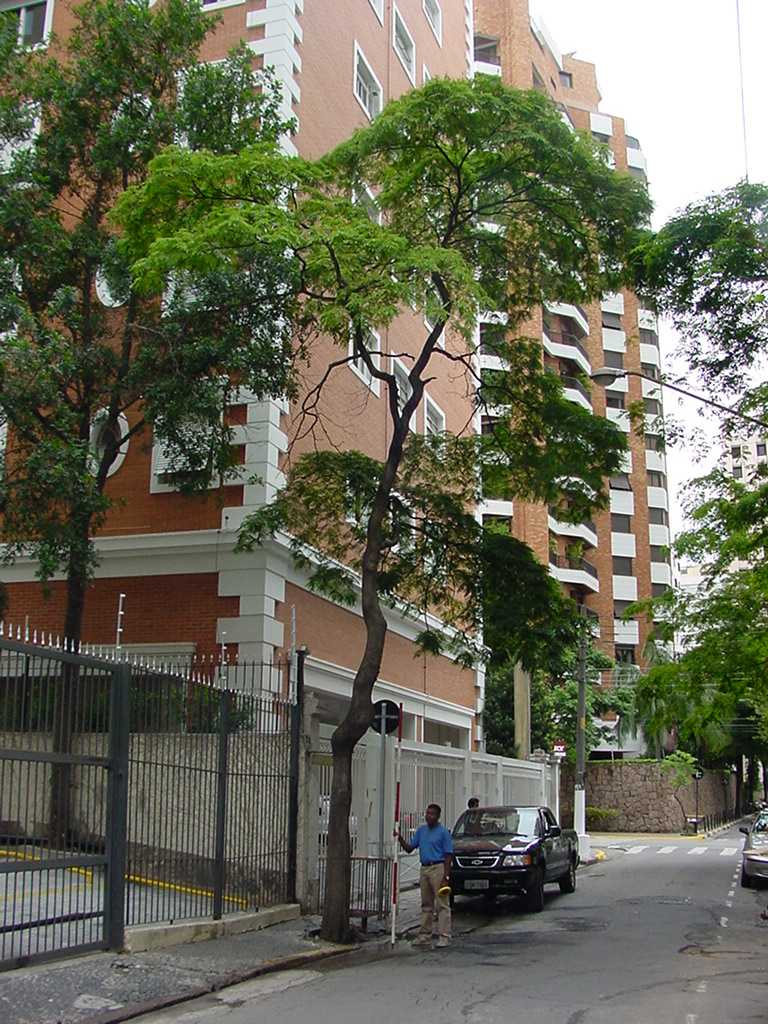crown: (114, 70, 649, 440)
stem: (310, 423, 390, 943)
stick: (381, 704, 410, 944)
tree: (111, 71, 650, 945)
